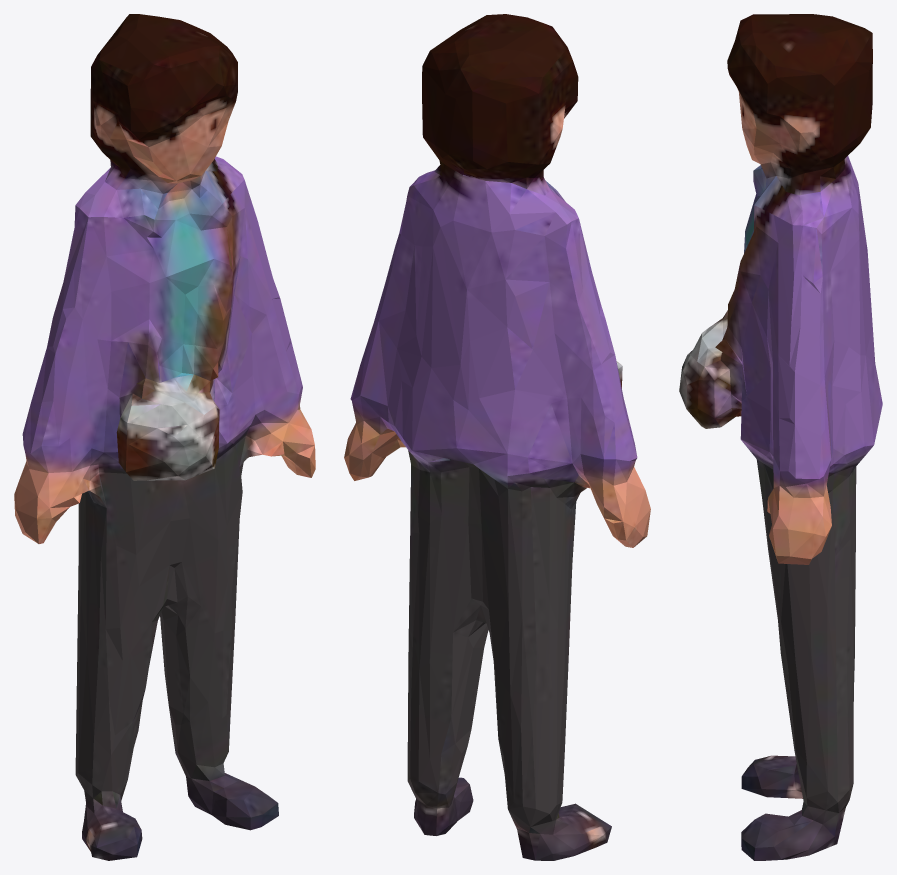
File: habitant-loin.glb
The picture shows the model from 3 angles, left to right: view 1: azimuth 30°, elevation 25°; view 2: azimuth 150°, elevation 25°; view 3: azimuth 270°, elevation 25°; orthographic projection.
Visible parts, largest first — view 1: habitant; view 2: habitant; view 3: habitant.
Part boxes in pixels (bbox=[...]): habitant: bbox=[14, 14, 315, 860]; habitant: bbox=[344, 14, 650, 860]; habitant: bbox=[679, 14, 882, 860].
Size of the model in its own units: 0.3793 by 1.01 by 0.2339.
1 material, 1 textured.
